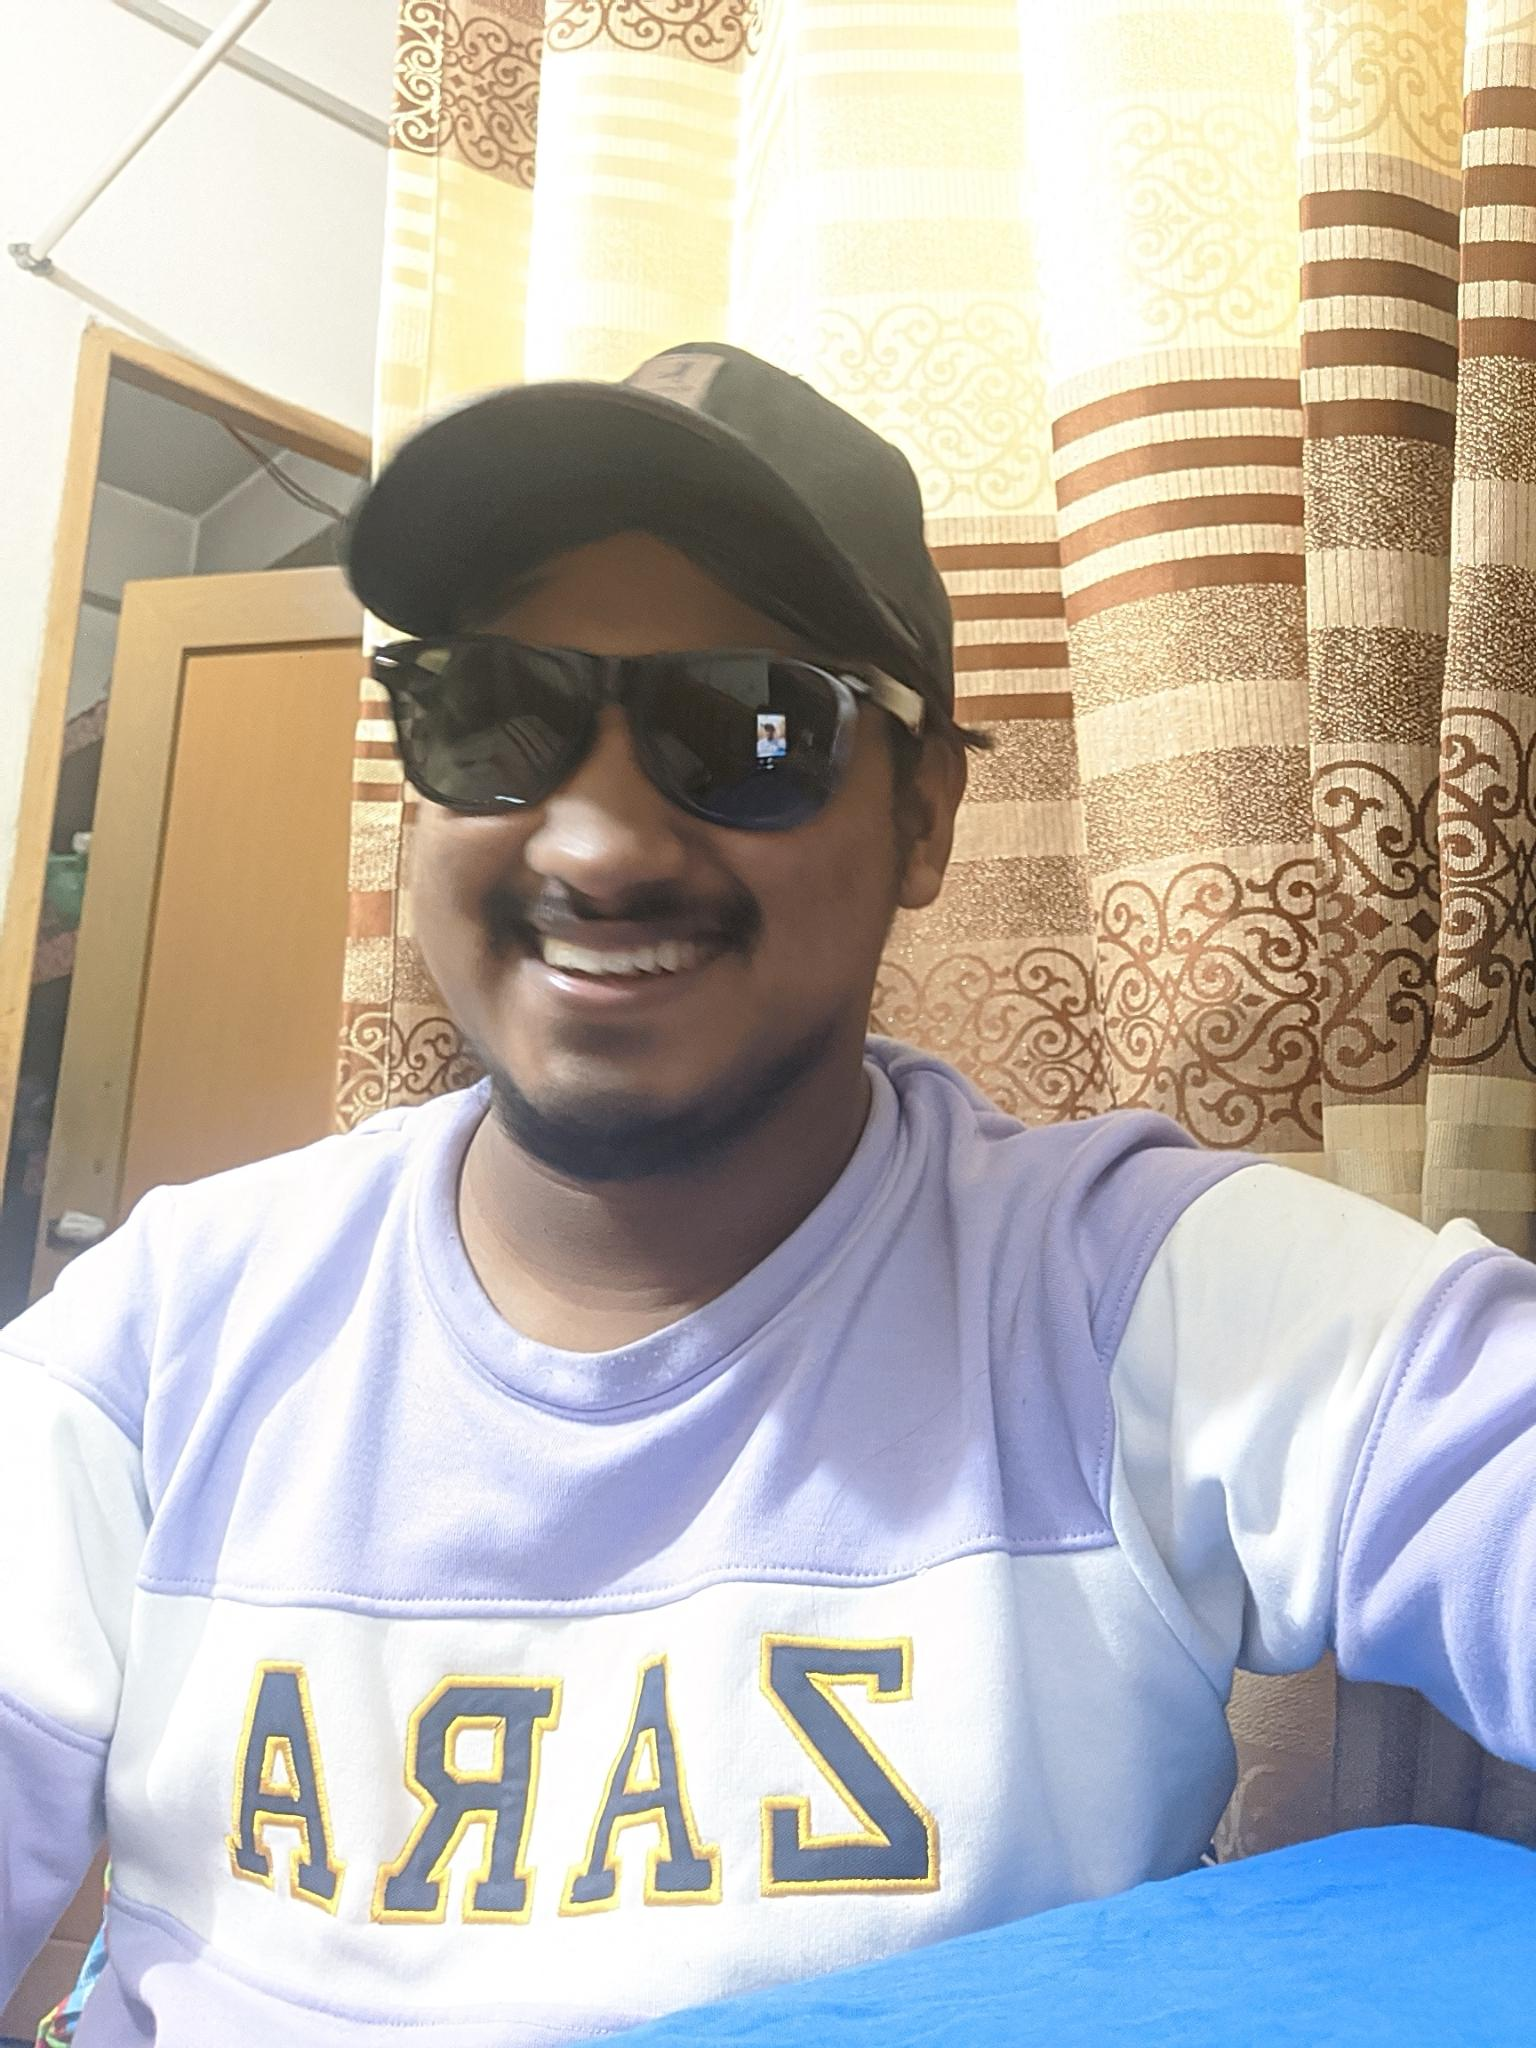Happy: (369, 569, 899, 1130)
